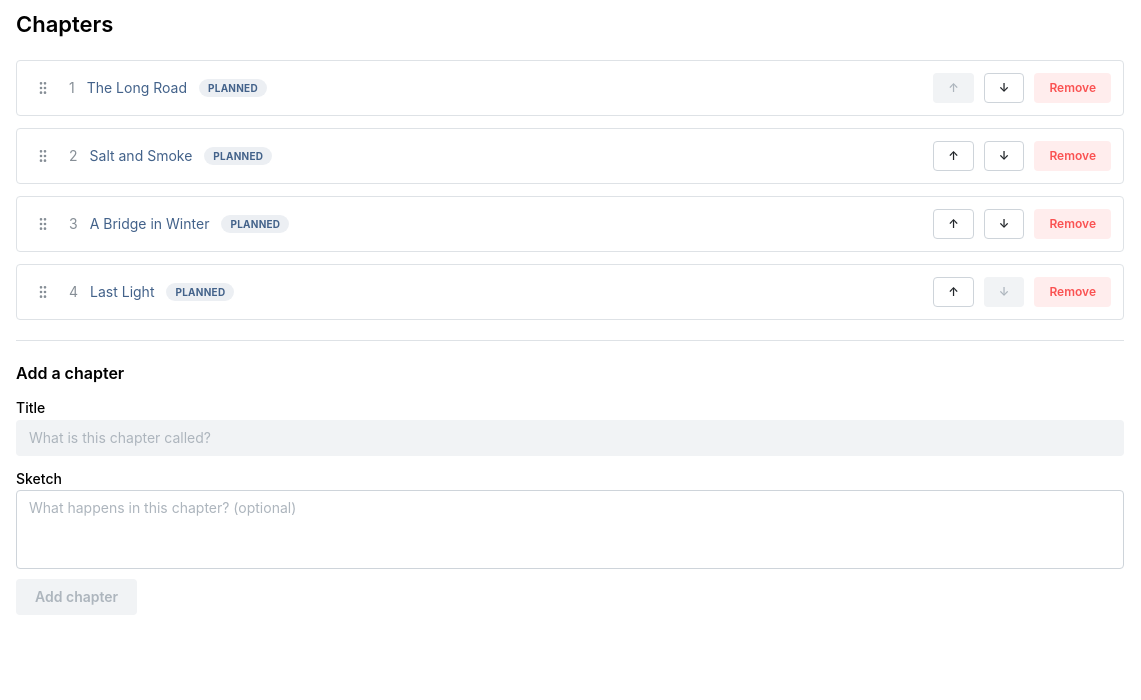
ChaptersPage — moving a chapter with the ↑ / ↓ controls › DoD-1 (US-033.AC-1): moving a chapter DOWN sends the FULL ordered id list with it one position later, and the order then shown is the SERVER's
Step 1. Click the button "↓" in the row of "Salt and Smoke" → (1004, 156), box top-left (984, 141), bottom-right (1024, 171)
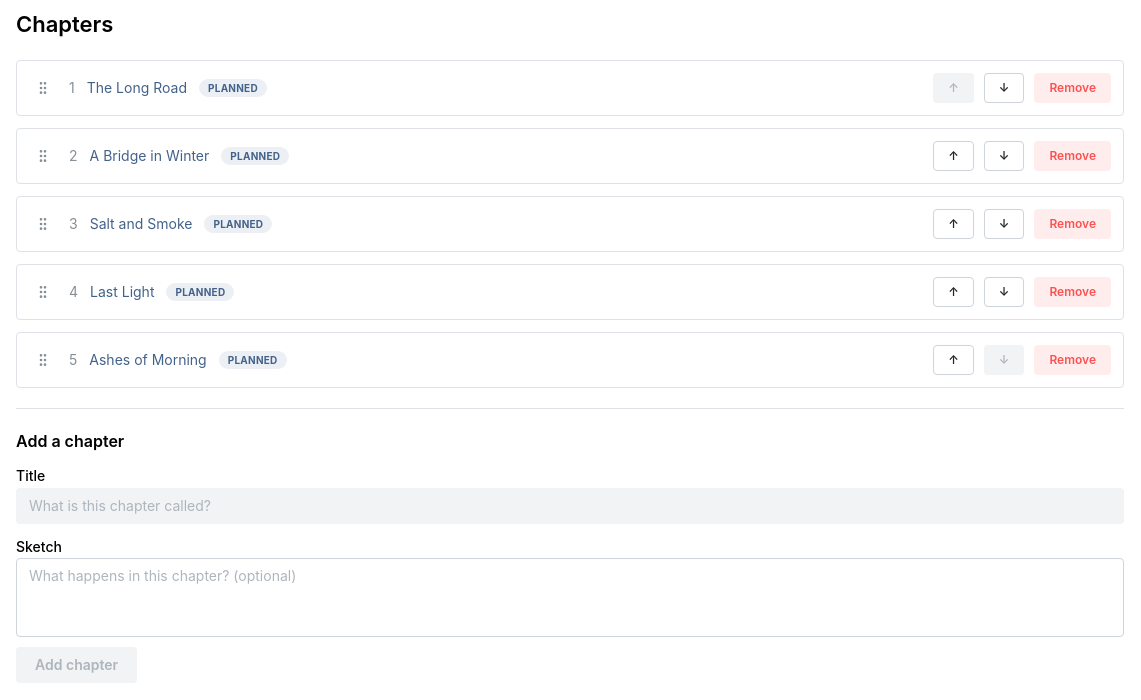
Expected: the text "The Long Road" is shown, top-left (87, 78), bottom-right (187, 98)
Expected: the text "Ashes of Morning" is shown, top-left (89, 350), bottom-right (207, 370)
